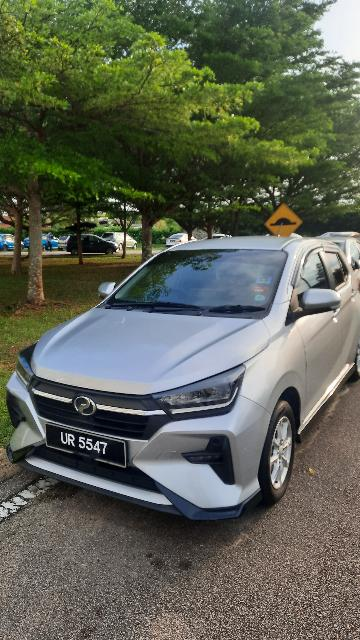License_Plate: (46, 424, 127, 468), (170, 241, 176, 243)
car: (3, 236, 349, 508), (316, 232, 360, 268), (66, 235, 120, 257), (100, 233, 138, 251), (25, 235, 61, 251), (167, 234, 199, 248), (1, 234, 25, 252)
